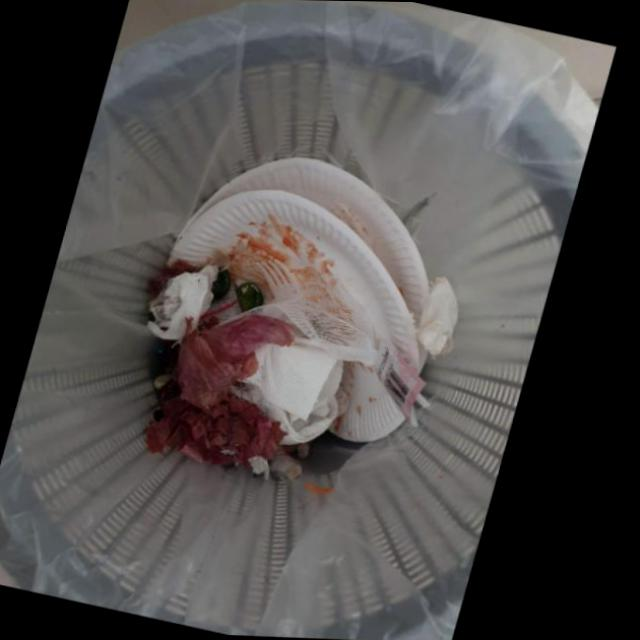carton: (172, 191, 425, 369), (197, 159, 434, 323)
giay: (238, 344, 350, 447), (153, 266, 224, 341)
vo_rau_cu: (153, 316, 301, 472)
vo_trai_cay: (240, 284, 269, 312), (216, 271, 236, 300)
